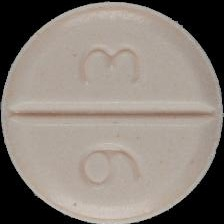0093-7382: (0, 0, 224, 224)
